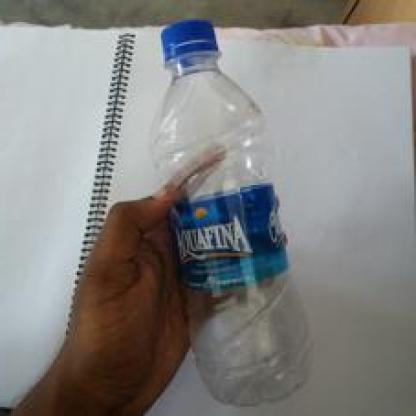bottle: (138, 5, 338, 406)
